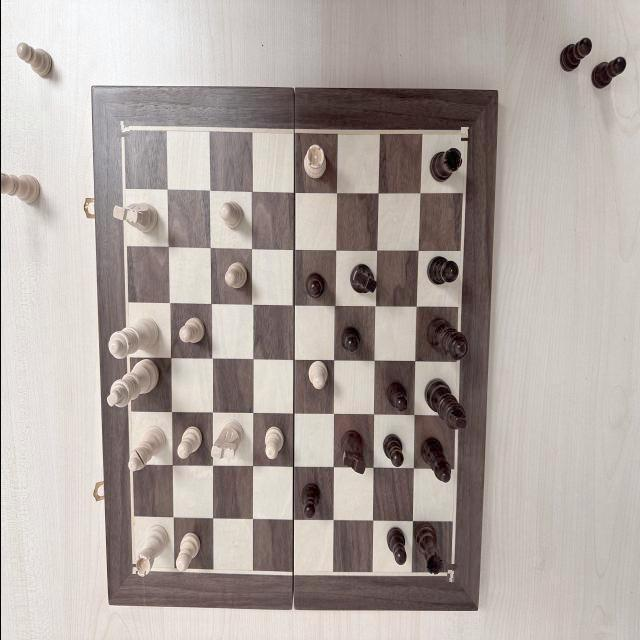chess-table-corners: (115, 120, 129, 138), (446, 564, 457, 582), (459, 127, 472, 141), (131, 564, 135, 574)
